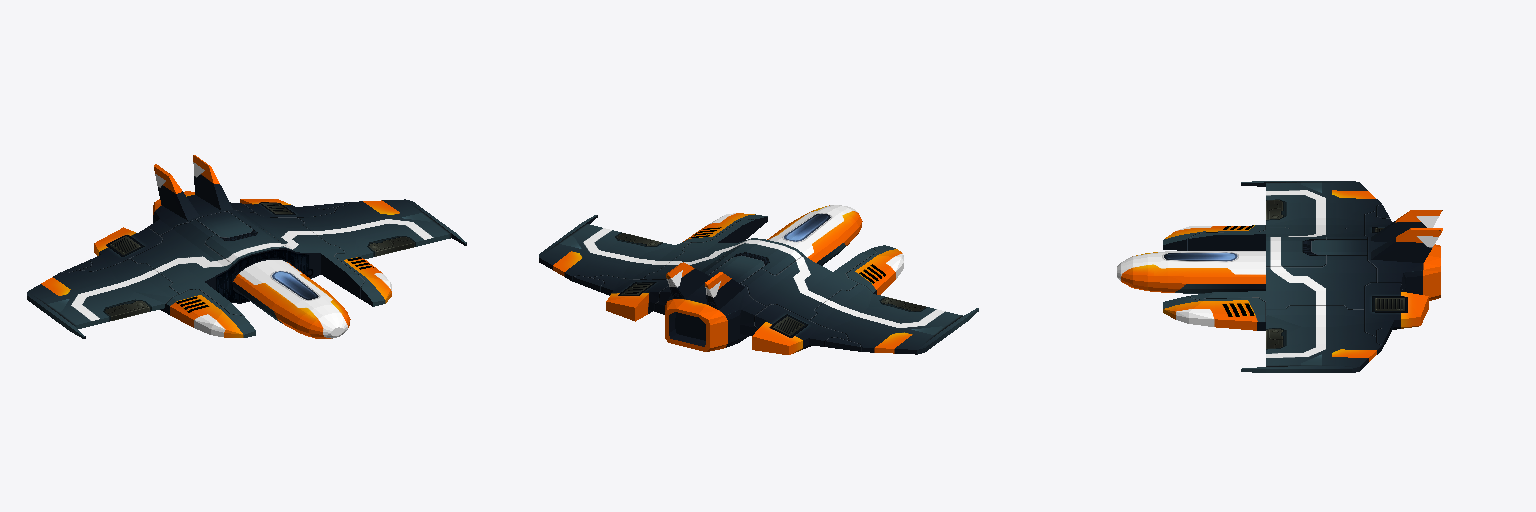
The picture shows the model from 3 angles: view 1: azimuth 30°, elevation 25°; view 2: azimuth 150°, elevation 25°; view 3: azimuth 270°, elevation 25°; orthographic projection.
Visible parts, largest first — view 1: Box001; view 2: Box001; view 3: Box001.
Boxes of the visible parts, x1,y1,x2,y2 form: Box001: [27, 155, 466, 338]; Box001: [539, 205, 978, 354]; Box001: [1117, 181, 1442, 372].
Size of the model in its own units: 12.26 by 2.27 by 8.98.
1 materials, 1 textured.